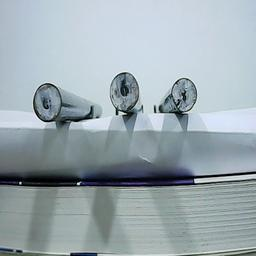pen: (110, 72, 140, 114), (32, 80, 61, 122), (171, 77, 199, 113)
